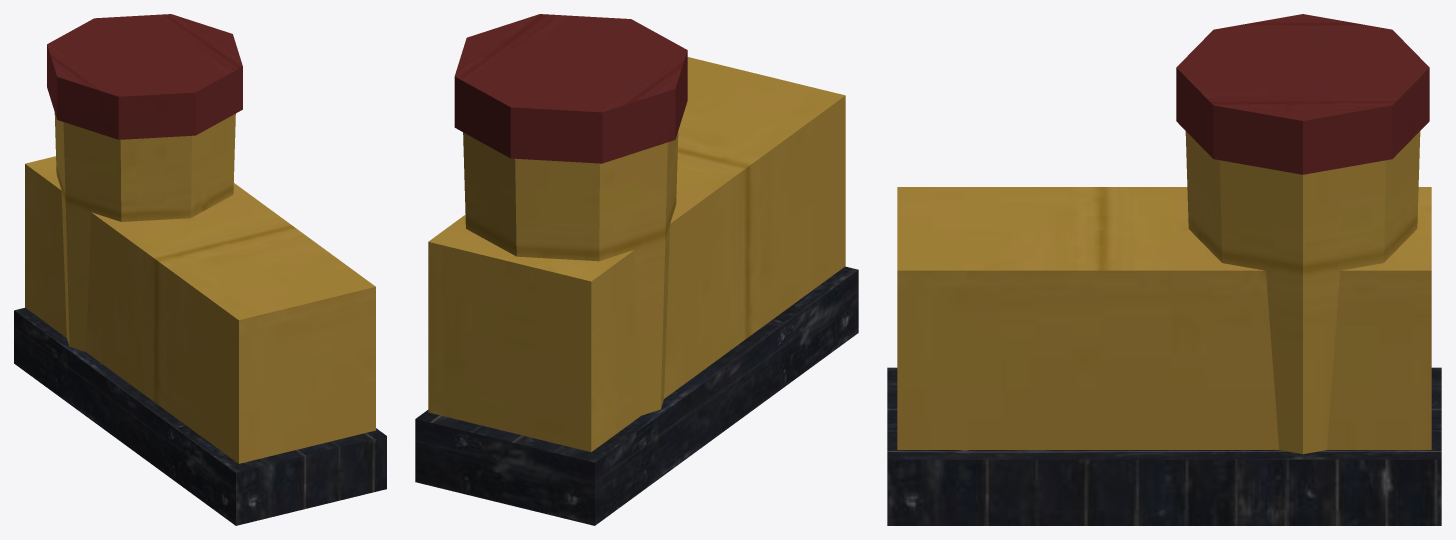
The model's file is eq_past_3_boot.glb.
3 views of the same model, side by side, from view 1: azimuth 30°, elevation 25°; view 2: azimuth 150°, elevation 25°; view 3: azimuth 270°, elevation 25° (orthographic). The views are drawn at different scales.
Parts seen in each view (by area): view 1: eq_past_3_boot; view 2: eq_past_3_boot; view 3: eq_past_3_boot.
Part boxes in pixels (box(x1,y1,x2,y2)): eq_past_3_boot: box(14, 14, 386, 525); eq_past_3_boot: box(415, 14, 858, 525); eq_past_3_boot: box(887, 14, 1441, 525).
Bounding box in the file's own units: 0.1382 × 0.2484 × 0.3024.
3 materials, 3 textured.
